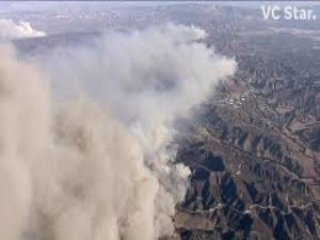smoke: (129, 23, 249, 109), (118, 131, 201, 231)
